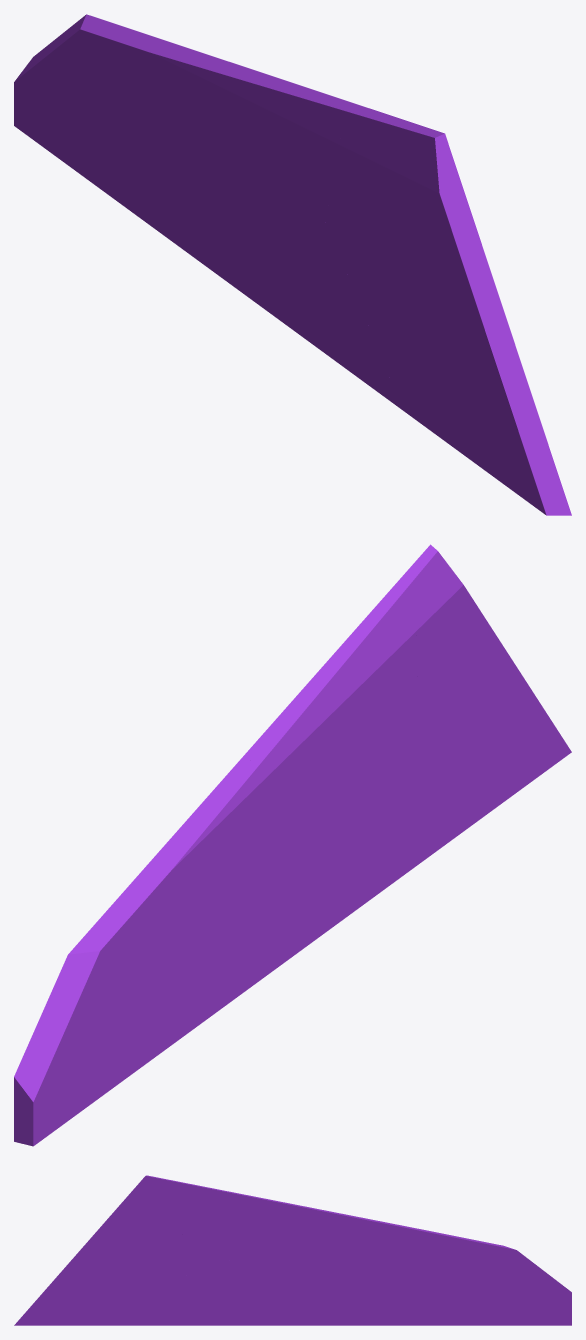
Rendered from Window_44_7_chunks.fbx.
3 renders of one model, top to bottom at view 1: azimuth 30°, elevation 25°; view 2: azimuth 150°, elevation 25°; view 3: azimuth 270°, elevation 25°, orthographic. The views are drawn at different scales.
Parts seen in each view (by area): view 1: Window_44_7_13, Window_44_7_10, Window_44_7_9, Window_44_7_1, Window_44_7_14, Window_44_7_2, Window_44_7_15, Window_44_7_8, Window_44_7_16, Window_44_7_3, Window_44_7_17, Window_44_7_5 (+2 smaller); view 2: Window_44_7_1, Window_44_7_10, Window_44_7_13, Window_44_7_9, Window_44_7_14, Window_44_7_2, Window_44_7_3, Window_44_7_15, Window_44_7_8, Window_44_7_16, Window_44_7_5, Window_44_7_17 (+2 smaller); view 3: Window_44_7_1, Window_44_7_9, Window_44_7_10, Window_44_7_13, Window_44_7_0, Window_44_7_16, Window_44_7_14, Window_44_7_2, Window_44_7_4, Window_44_7_18, Window_44_7_8, Window_44_7_3 (+5 smaller).
Boxes of the visible parts, x1,y1,x2,y2 form: Window_44_7_13: [393, 125, 549, 455]; Window_44_7_10: [229, 72, 358, 222]; Window_44_7_9: [247, 212, 403, 410]; Window_44_7_1: [14, 14, 135, 151]; Window_44_7_14: [326, 111, 411, 269]; Window_44_7_2: [131, 63, 260, 160]; Window_44_7_15: [345, 251, 434, 413]; Window_44_7_8: [37, 142, 186, 249]; Window_44_7_16: [408, 363, 571, 515]; Window_44_7_3: [80, 17, 223, 102]; Window_44_7_17: [425, 294, 561, 498]; Window_44_7_5: [173, 155, 261, 255]; Window_44_7_1: [14, 945, 155, 1146]; Window_44_7_10: [244, 641, 361, 888]; Window_44_7_13: [402, 544, 551, 720]; Window_44_7_9: [269, 783, 426, 944]; Window_44_7_14: [348, 582, 417, 801]; Window_44_7_2: [152, 756, 259, 992]; Window_44_7_3: [77, 795, 216, 950]; Window_44_7_15: [369, 730, 458, 857]; Window_44_7_8: [57, 960, 208, 1128]; Window_44_7_16: [431, 743, 571, 854]; Window_44_7_5: [194, 864, 284, 984]; Window_44_7_17: [449, 707, 565, 762]; Window_44_7_1: [440, 1246, 571, 1325]; Window_44_7_9: [162, 1257, 328, 1325]; Window_44_7_10: [230, 1191, 347, 1279]; Window_44_7_13: [37, 1175, 177, 1298]; Window_44_7_0: [279, 1261, 403, 1325]; Window_44_7_16: [14, 1283, 170, 1325]; Window_44_7_14: [178, 1181, 231, 1271]; Window_44_7_2: [336, 1213, 437, 1296]; Window_44_7_4: [349, 1216, 453, 1297]; Window_44_7_18: [134, 1244, 214, 1289]; Window_44_7_8: [399, 1294, 526, 1325]; Window_44_7_3: [372, 1220, 507, 1266].
Size of the model in its own units: 27.2 by 391 by 1322.
